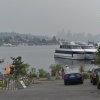Boat: (47, 36, 100, 80)
